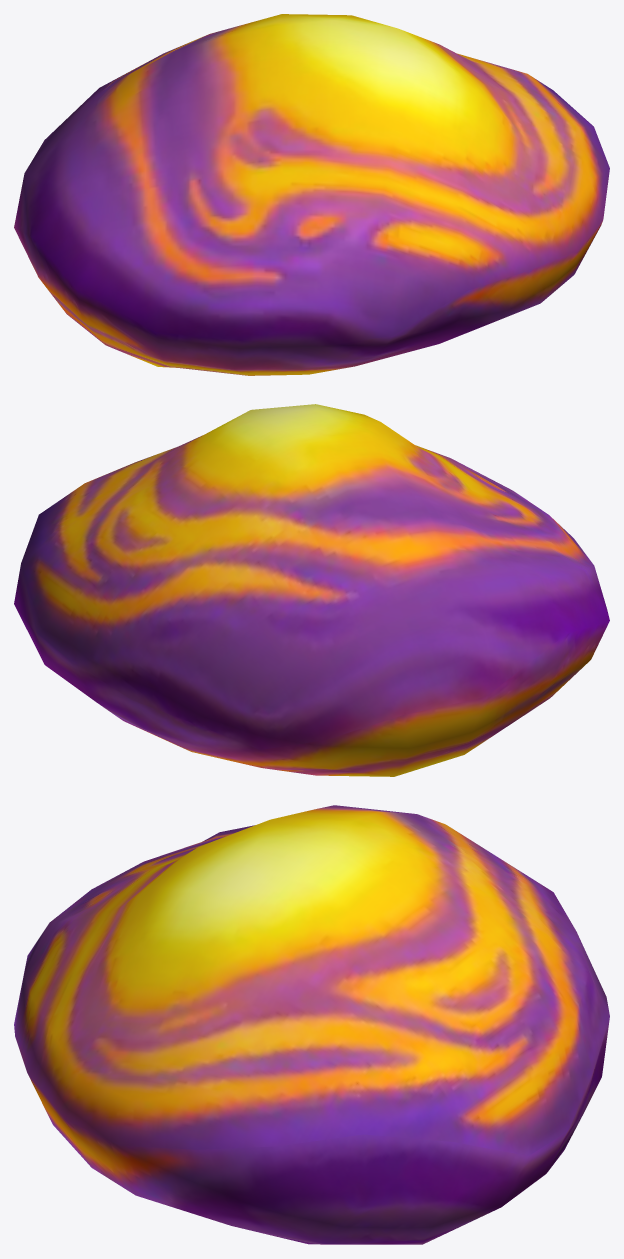
3 renders of one model, top to bottom at view 1: azimuth 30°, elevation 25°; view 2: azimuth 150°, elevation 25°; view 3: azimuth 270°, elevation 25°, orthographic. The views are drawn at different scales.
Parts seen in each view (by area): view 1: SM_Discordant_Residue_01_LOD0; view 2: SM_Discordant_Residue_01_LOD0; view 3: SM_Discordant_Residue_01_LOD0.
Boxes of the visible parts, bbox=[...] form: SM_Discordant_Residue_01_LOD0: bbox=[14, 14, 609, 375]; SM_Discordant_Residue_01_LOD0: bbox=[14, 404, 609, 776]; SM_Discordant_Residue_01_LOD0: bbox=[14, 805, 609, 1244].
Bounding box in the file's own units: 0.3782 × 0.2067 × 0.3129.
1 material, 1 textured.
